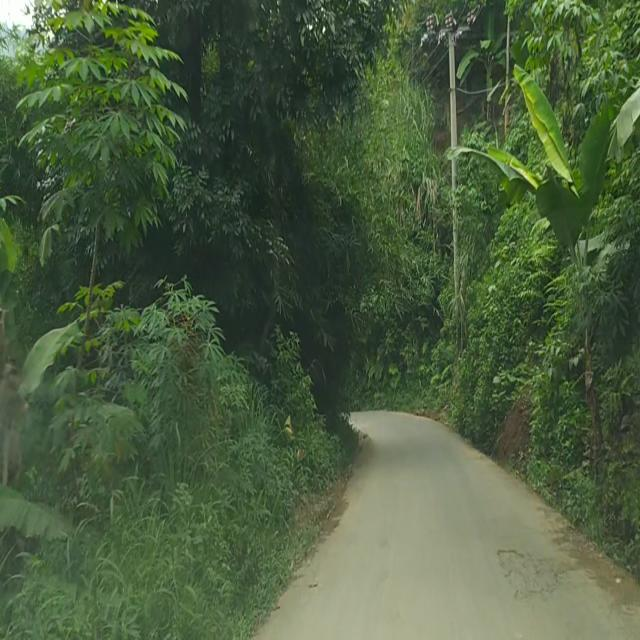Drain Hole: (484, 542, 571, 604)
